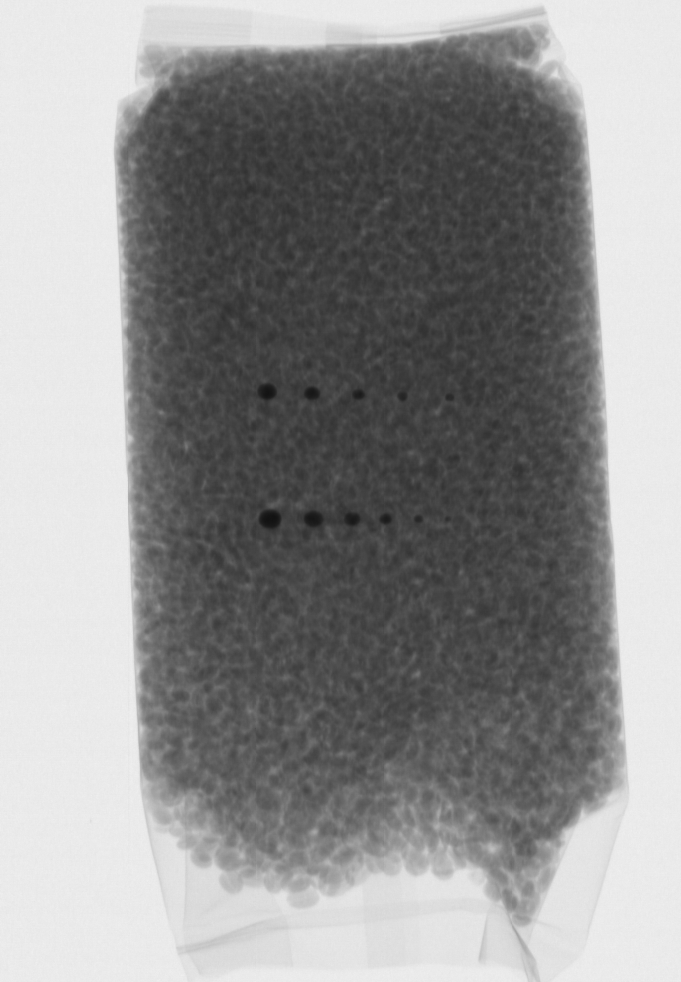glass: (256, 506, 285, 535), (303, 506, 325, 530), (256, 377, 277, 402), (344, 507, 363, 529), (302, 384, 322, 402), (380, 507, 396, 528), (443, 390, 461, 406), (350, 385, 367, 401), (396, 390, 414, 405), (412, 512, 427, 526)
glass_area: (240, 366, 476, 420), (243, 493, 438, 538)
